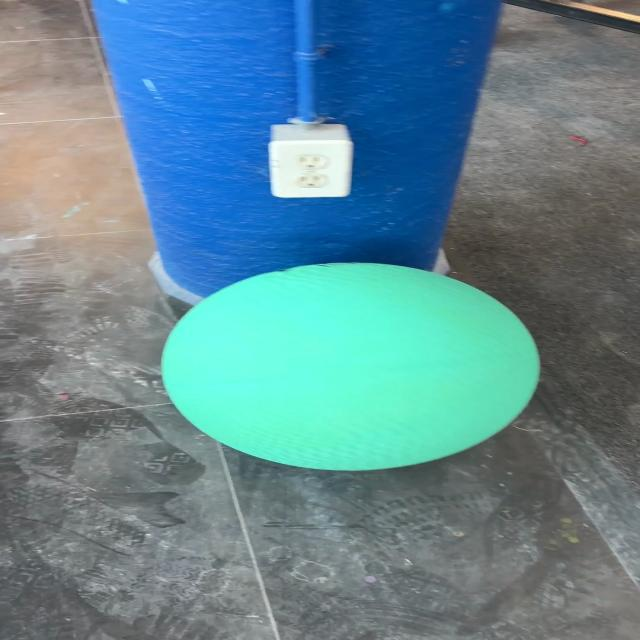Algae: (158, 261, 542, 472)
